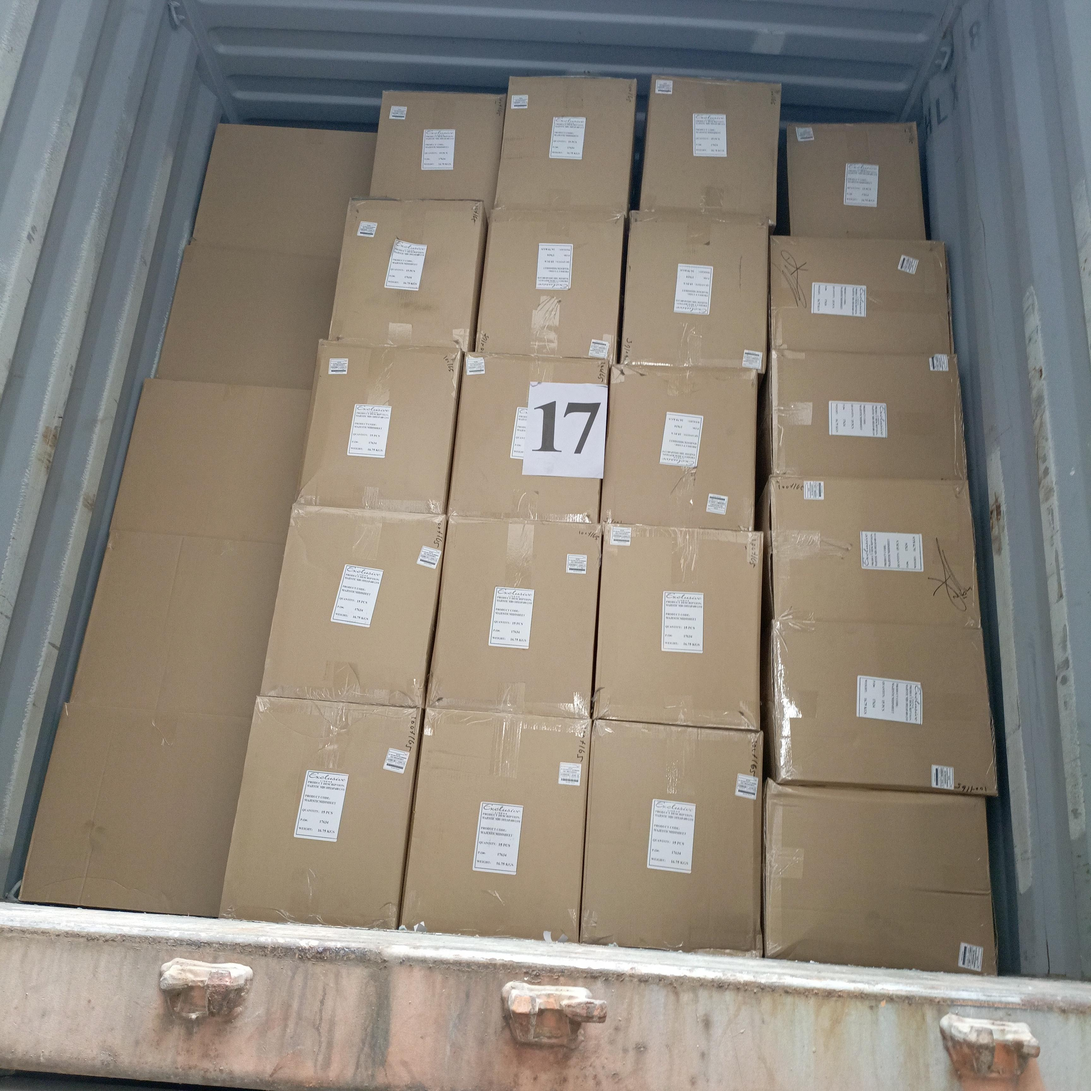carton: (19, 705, 249, 916), (220, 698, 422, 927), (763, 783, 996, 975), (401, 708, 591, 940), (581, 720, 762, 954), (69, 528, 286, 718), (764, 619, 996, 794), (263, 504, 447, 706), (427, 516, 603, 715), (593, 523, 762, 728), (108, 379, 310, 541), (764, 475, 978, 623), (299, 340, 463, 513), (449, 351, 610, 522), (758, 349, 966, 479), (599, 364, 757, 530), (157, 244, 336, 388), (326, 198, 487, 353), (620, 208, 770, 372), (191, 124, 374, 256), (475, 207, 625, 364), (769, 235, 951, 355), (639, 72, 779, 224), (494, 76, 636, 212), (787, 122, 926, 239), (370, 90, 505, 205)
